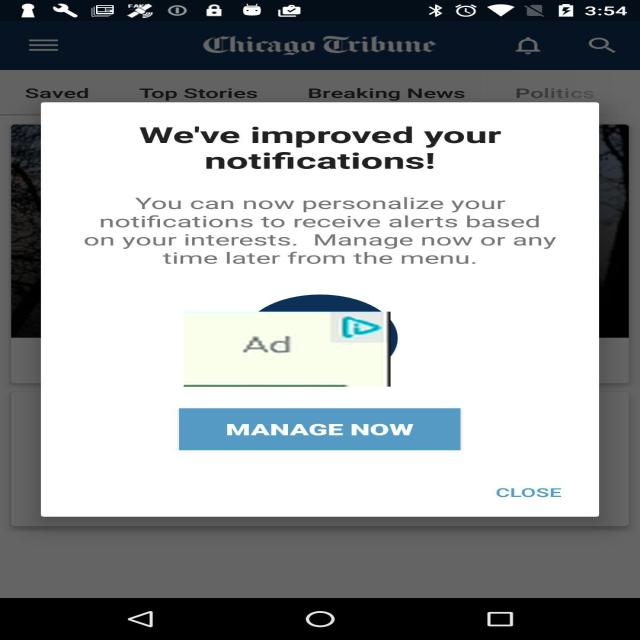sneaking: (184, 312, 390, 386)
